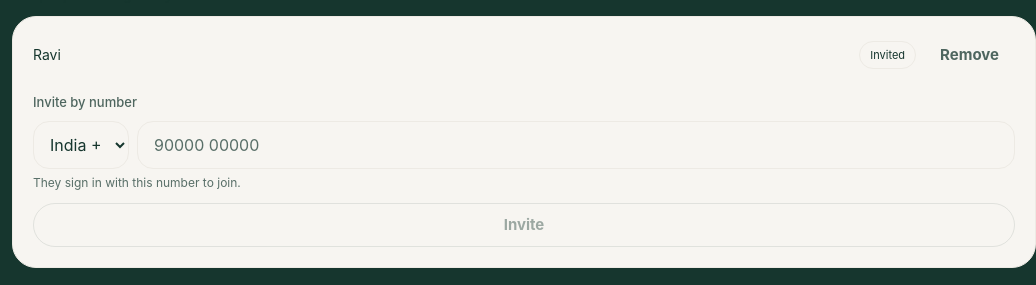
Test: removing › withdraws an invitation and refetches the list
The image size is (1036, 285).
Step 1. Click the button "Remove" → (970,55), box [924,37,1015,73]
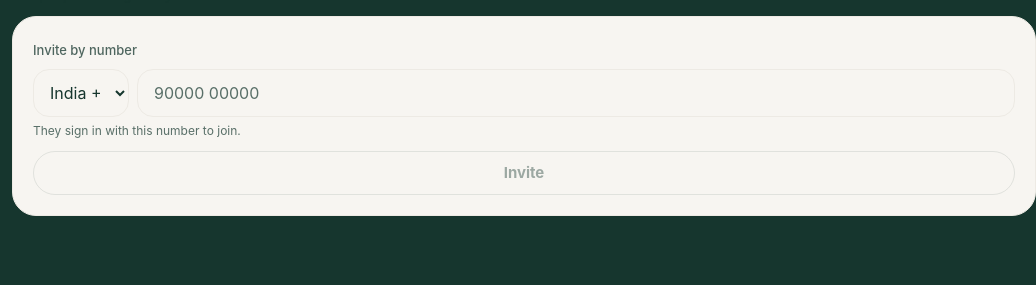
Now the text "Ravi" is gone
